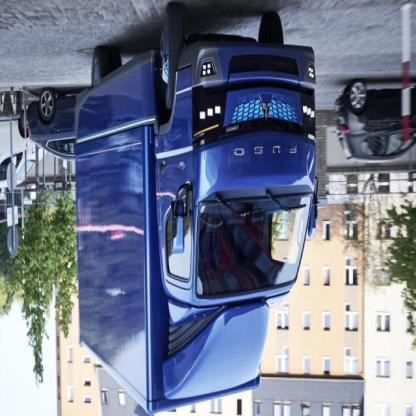truck: (79, 10, 319, 415)
